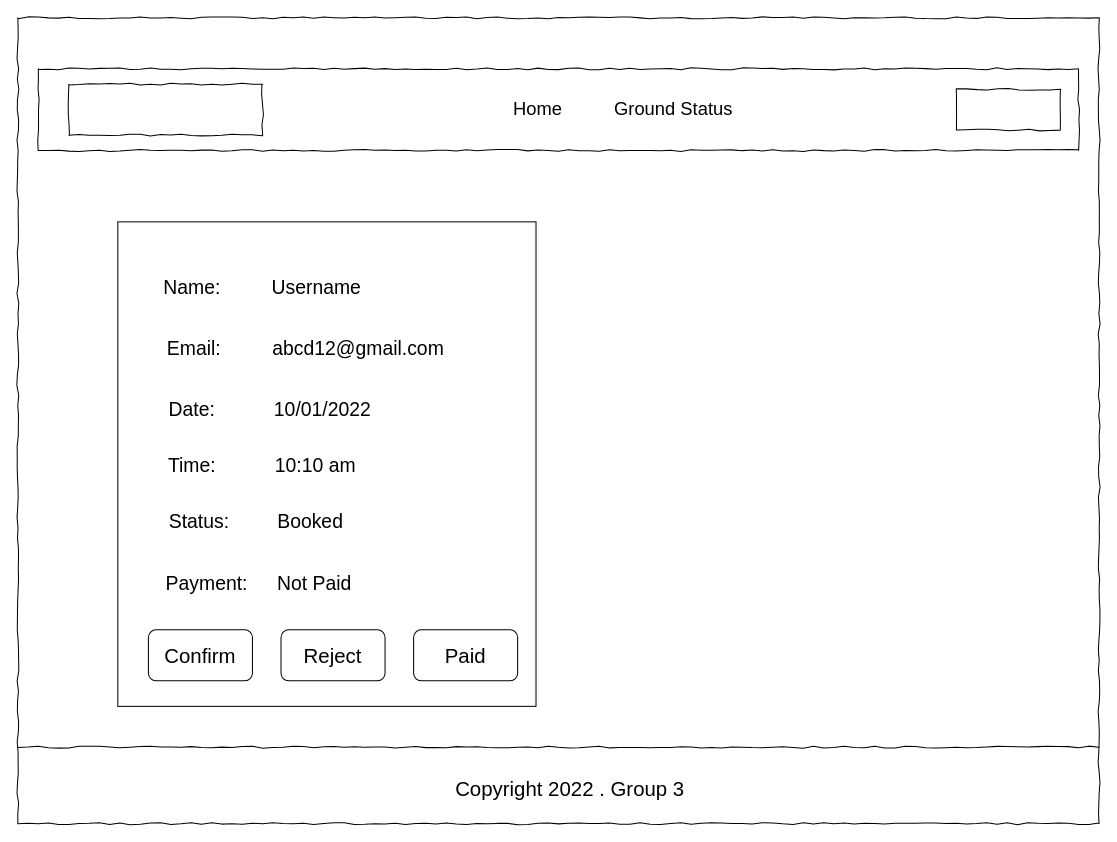
Some shapes in this 1117 by 842 pixel diagram are drawn without their labels. Here are the shapes that lost their labels. From the top down, the centre of each, then its label:
At point (165, 109): "LOGO".
At point (1007, 109): "Log Out".
